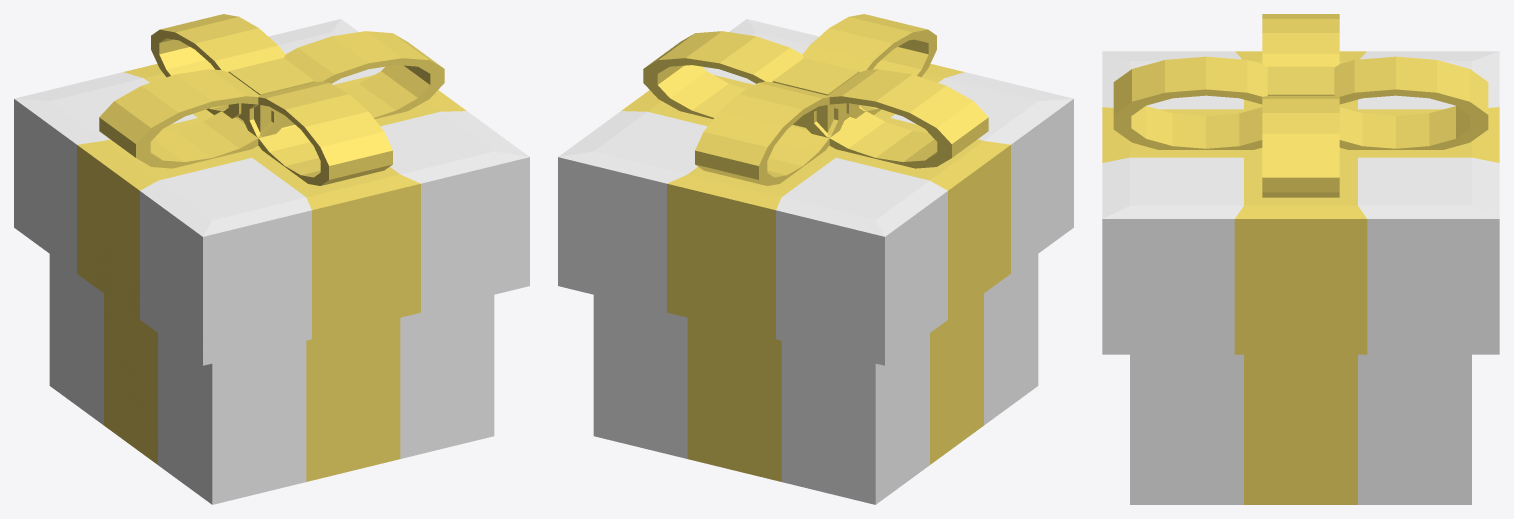
Rendered from Present004.fbx.
The picture shows the model from 3 angles, left to right: view 1: azimuth 30°, elevation 25°; view 2: azimuth 150°, elevation 25°; view 3: azimuth 270°, elevation 25°; orthographic projection. The views are drawn at different scales.
Visible parts, largest first — view 1: Present004; view 2: Present004; view 3: Present004.
Part boxes in pixels (bbox=[...]): Present004: bbox=[14, 14, 529, 504]; Present004: bbox=[558, 14, 1073, 504]; Present004: bbox=[1102, 14, 1499, 504].
Size of the model in its own units: 83.71 by 83.67 by 83.71.
